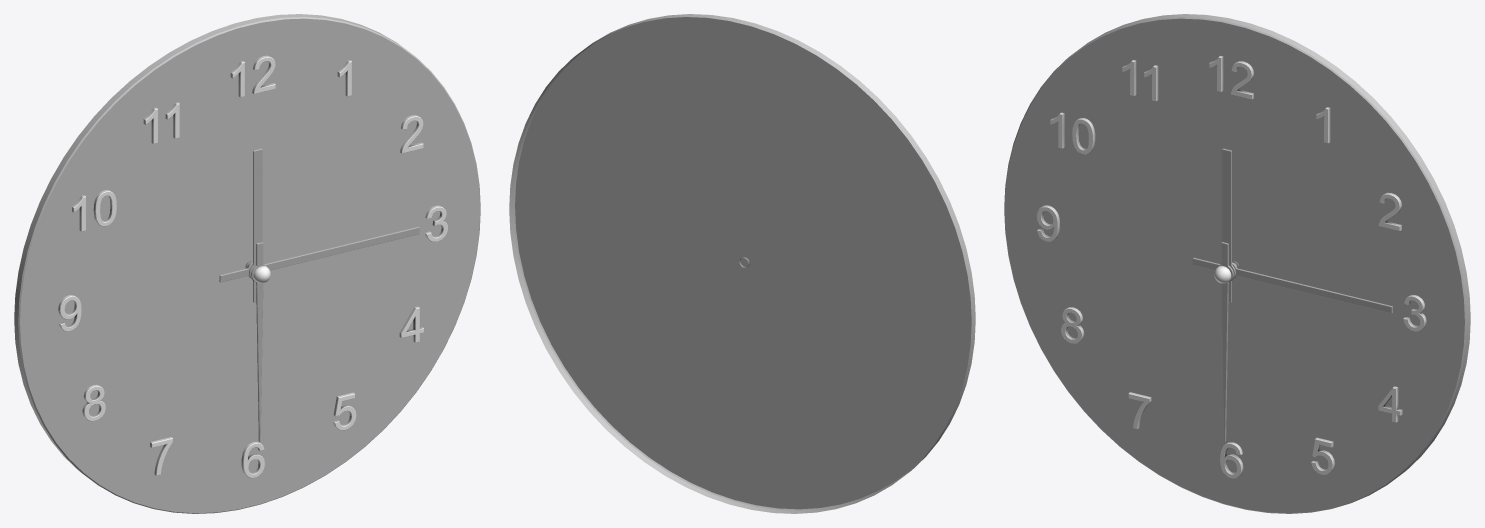
File: Clock - Copy.fbx
3 renders of one model, left to right at view 1: azimuth 30°, elevation 25°; view 2: azimuth 150°, elevation 25°; view 3: azimuth 330°, elevation 25°, orthographic.
Visible parts, largest first — view 1: Clock_Face, Clock_Minute_Hand, Clock_Hour_Hand, Clock_Second_Hand, Clock_Num_10, Clock_Num_12, Clock_Num_11, Clock_Num_08, Clock_Num_06, Clock_Num_09, Clock_Num_05, Clock_Num_02; view 2: Clock_Face; view 3: Clock_Face, Clock_Minute_Hand, Clock_Hour_Hand, Clock_Second_Hand, Clock_Num_10, Clock_Num_12, Clock_Num_11, Clock_Num_06, Clock_Num_08, Clock_Num_09, Clock_Num_05.
Part boxes in pixels (x1=…): Clock_Face: x1=14, y1=14, x2=480, y2=513; Clock_Minute_Hand: x1=219, y1=226, x2=419, y2=282; Clock_Hour_Hand: x1=249, y1=148, x2=263, y2=302; Clock_Second_Hand: x1=251, y1=242, x2=266, y2=441; Clock_Num_10: x1=72, y1=190, x2=116, y2=231; Clock_Num_12: x1=230, y1=55, x2=275, y2=97; Clock_Num_11: x1=143, y1=102, x2=179, y2=143; Clock_Num_08: x1=82, y1=384, x2=105, y2=421; Clock_Num_06: x1=241, y1=441, x2=264, y2=478; Clock_Num_09: x1=58, y1=295, x2=81, y2=331; Clock_Num_05: x1=333, y1=392, x2=356, y2=430; Clock_Num_02: x1=400, y1=115, x2=423, y2=153; Clock_Face: x1=509, y1=14, x2=975, y2=513; Clock_Face: x1=1004, y1=14, x2=1470, y2=513; Clock_Minute_Hand: x1=1192, y1=258, x2=1392, y2=313; Clock_Hour_Hand: x1=1221, y1=148, x2=1235, y2=302; Clock_Second_Hand: x1=1218, y1=242, x2=1233, y2=441; Clock_Num_10: x1=1050, y1=112, x2=1095, y2=154; Clock_Num_12: x1=1209, y1=56, x2=1253, y2=99; Clock_Num_11: x1=1122, y1=60, x2=1158, y2=101; Clock_Num_06: x1=1220, y1=442, x2=1243, y2=478; Clock_Num_08: x1=1061, y1=307, x2=1084, y2=343; Clock_Num_09: x1=1036, y1=205, x2=1059, y2=241; Clock_Num_05: x1=1311, y1=437, x2=1334, y2=474.
Bounding box in the file's own units: 150 × 150 × 11.69.
